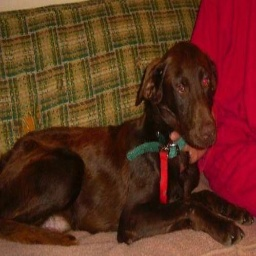dog: (3, 36, 251, 248)
